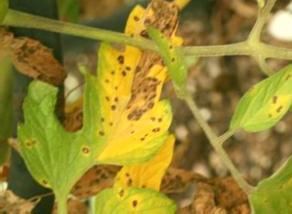Tomato Septoria leaf spot: (60, 1, 193, 193), (86, 180, 178, 214)
